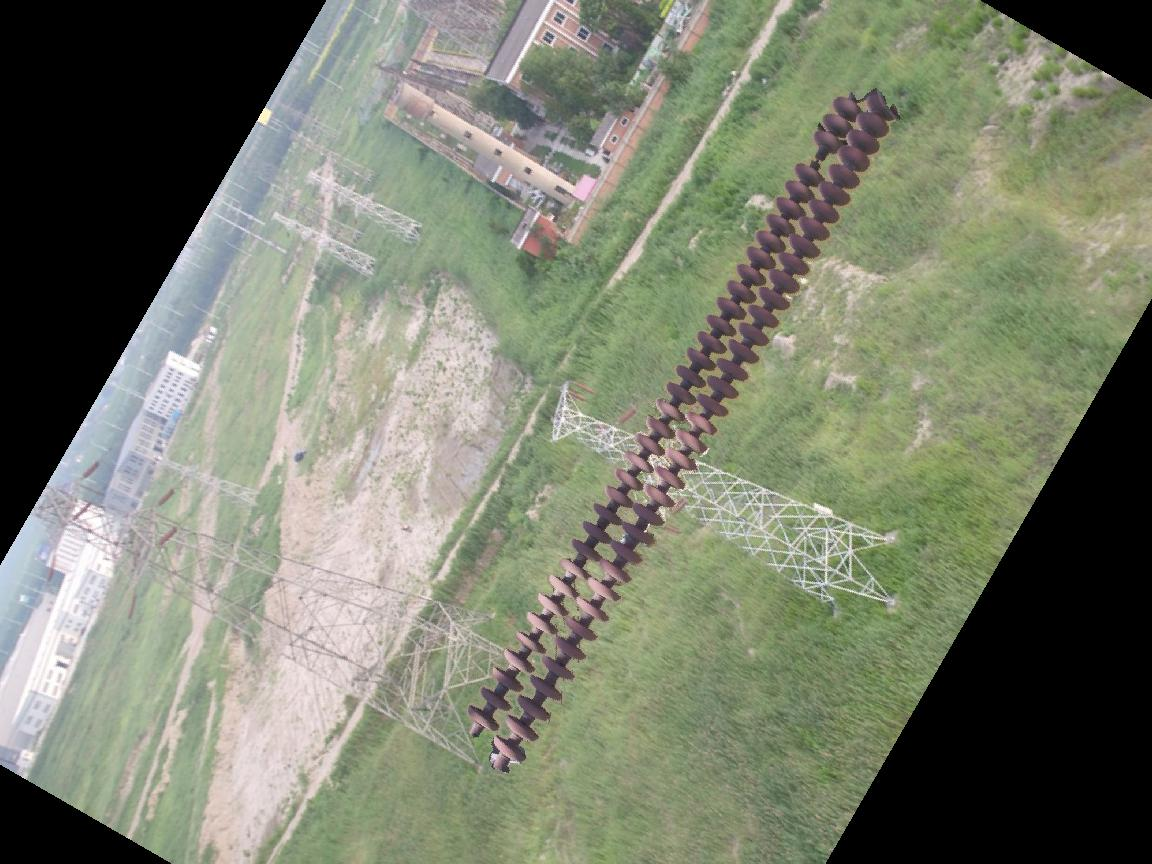insulator: (464, 83, 903, 776)
insulator_stringdrop: (792, 127, 844, 185)
